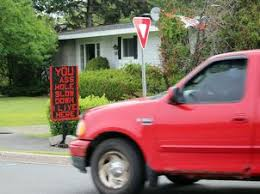yield: (132, 16, 151, 48)
